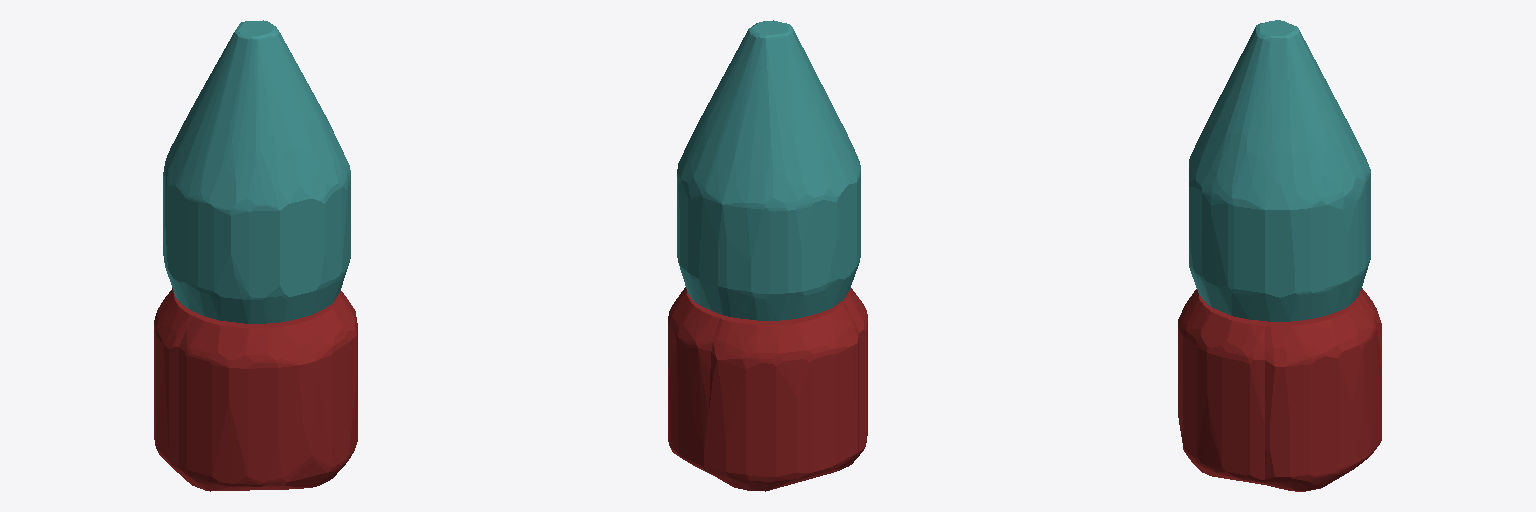
robot.urdf — root:
<robot name="root">
  <link name="bottle_body">
    <inertial>
      <origin xyz="0 0 0" rpy="0 0 0"/>
    </inertial>
    <mass value="1.00E-02"/>
    <visual>
      <origin xyz="0 0 0" rpy="0 0 0"/>
      <geometry>
        <mesh filename="core-bottle-3999ca6a50ae47c876b38b4cbe0c74b7-coacd_convex_piece_2.obj" scale="1.0000E-01 1.0000E-01 1.0000E-01"/>
      </geometry>
      <material name="">
        <color rgba="6.00E-01 2.00E-01 2.00E-01 1"/>
      </material>
    </visual>
    <collision>
      <origin xyz="0 0 0" rpy="0 0 0"/>
      <geometry>
        <mesh filename="core-bottle-3999ca6a50ae47c876b38b4cbe0c74b7-coacd_convex_piece_2.obj" scale="1.0000E-01 1.0000E-01 1.0000E-01"/>
      </geometry>
    </collision>
    <visual>
      <origin xyz="0 0 0" rpy="0 0 0"/>
      <geometry>
        <mesh filename="core-bottle-3999ca6a50ae47c876b38b4cbe0c74b7-coacd_convex_piece_1.obj" scale="1.0000E-01 1.0000E-01 1.0000E-01"/>
      </geometry>
      <material name="">
        <color rgba="6.00E-01 2.00E-01 2.00E-01 1"/>
      </material>
    </visual>
    <collision>
      <origin xyz="0 0 0" rpy="0 0 0"/>
      <geometry>
        <mesh filename="core-bottle-3999ca6a50ae47c876b38b4cbe0c74b7-coacd_convex_piece_1.obj" scale="1.0000E-01 1.0000E-01 1.0000E-01"/>
      </geometry>
    </collision>
    <visual>
      <origin xyz="0 0 0" rpy="0 0 0"/>
      <geometry>
        <mesh filename="core-bottle-3999ca6a50ae47c876b38b4cbe0c74b7-coacd_convex_piece_3.obj" scale="1.0000E-01 1.0000E-01 1.0000E-01"/>
      </geometry>
      <material name="">
        <color rgba="6.00E-01 2.00E-01 2.00E-01 1"/>
      </material>
    </visual>
    <collision>
      <origin xyz="0 0 0" rpy="0 0 0"/>
      <geometry>
        <mesh filename="core-bottle-3999ca6a50ae47c876b38b4cbe0c74b7-coacd_convex_piece_3.obj" scale="1.0000E-01 1.0000E-01 1.0000E-01"/>
      </geometry>
    </collision>
  </link>
  <link name="bottle_cap">
    <origin xyz="0 0 0.002" rpy="0 0 0"/>
    <mass value="1.00E-02"/>
    <visual>
      <origin xyz="0 0 0.002" rpy="0 0 0"/>
      <geometry>
        <mesh filename="core-bottle-3999ca6a50ae47c876b38b4cbe0c74b7-coacd_convex_piece_0.obj" scale="1.0000E-01 1.0000E-01 1.0000E-01"/>
      </geometry>
      <material name="">
        <color rgba="3.00E-01 6.00E-01 6.00E-01 1"/>
      </material>
    </visual>
    <collision>
      <origin xyz="0 0 0.002" rpy="0 0 0"/>
      <geometry>
        <mesh filename="core-bottle-3999ca6a50ae47c876b38b4cbe0c74b7-coacd_convex_piece_0.obj" scale="1.0000E-01 1.0000E-01 1.0000E-01"/>
      </geometry>
    </collision>
  </link>
  <joint name="bottle_cap_joint" type="revolute">
    <origin xyz="0 0 0" rpy="0 0 0"/>
    <parent link="bottle_body"/>
    <child link="bottle_cap"/>
    <axis xyz="0 0 1"/>
    <limit lower="0.00" upper="6.28"/>
    <dynamics damping="0.05"/>
  </joint>
</robot>

--- Render facts (derived) ---
The picture shows the robot from 3 angles, left to right: view 1: azimuth 30°, elevation 25°; view 2: azimuth 150°, elevation 25°; view 3: azimuth 270°, elevation 25°; orthographic projection.
Robot: root — 2 links, 1 joints (1 revolute); root link bottle_body; default pose: all joints at 0.
Links seen in each view (by area): view 1: bottle_cap, bottle_body; view 2: bottle_cap, bottle_body; view 3: bottle_cap, bottle_body.
Boxes of the visible links, x1,y1,x2,y2 form: bottle_cap: (163, 20, 350, 323); bottle_body: (154, 288, 357, 491); bottle_cap: (677, 20, 860, 320); bottle_body: (668, 287, 867, 491); bottle_cap: (1189, 20, 1370, 321); bottle_body: (1178, 288, 1381, 491).
Bounding box of the posed robot: 0.0802 × 0.0802 × 0.1865 m (x, y, z).
Meshes: 4 distinct files referenced, 4 mesh visuals loaded (4 OBJ).